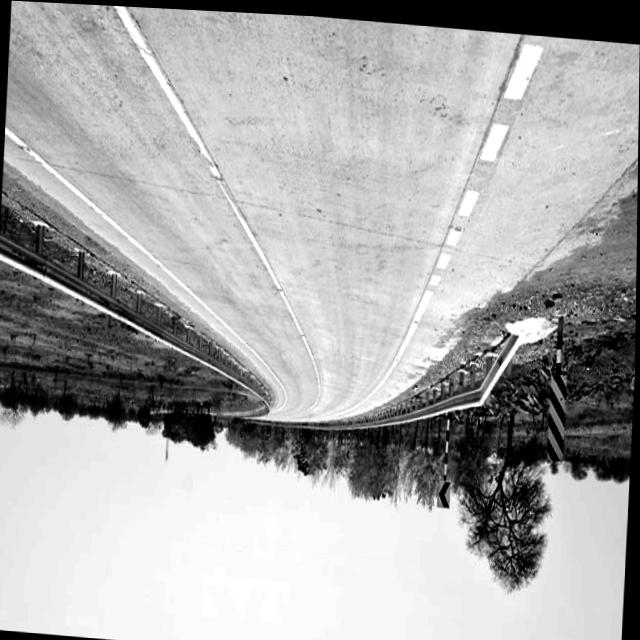cleat: (0, 0, 587, 624)
